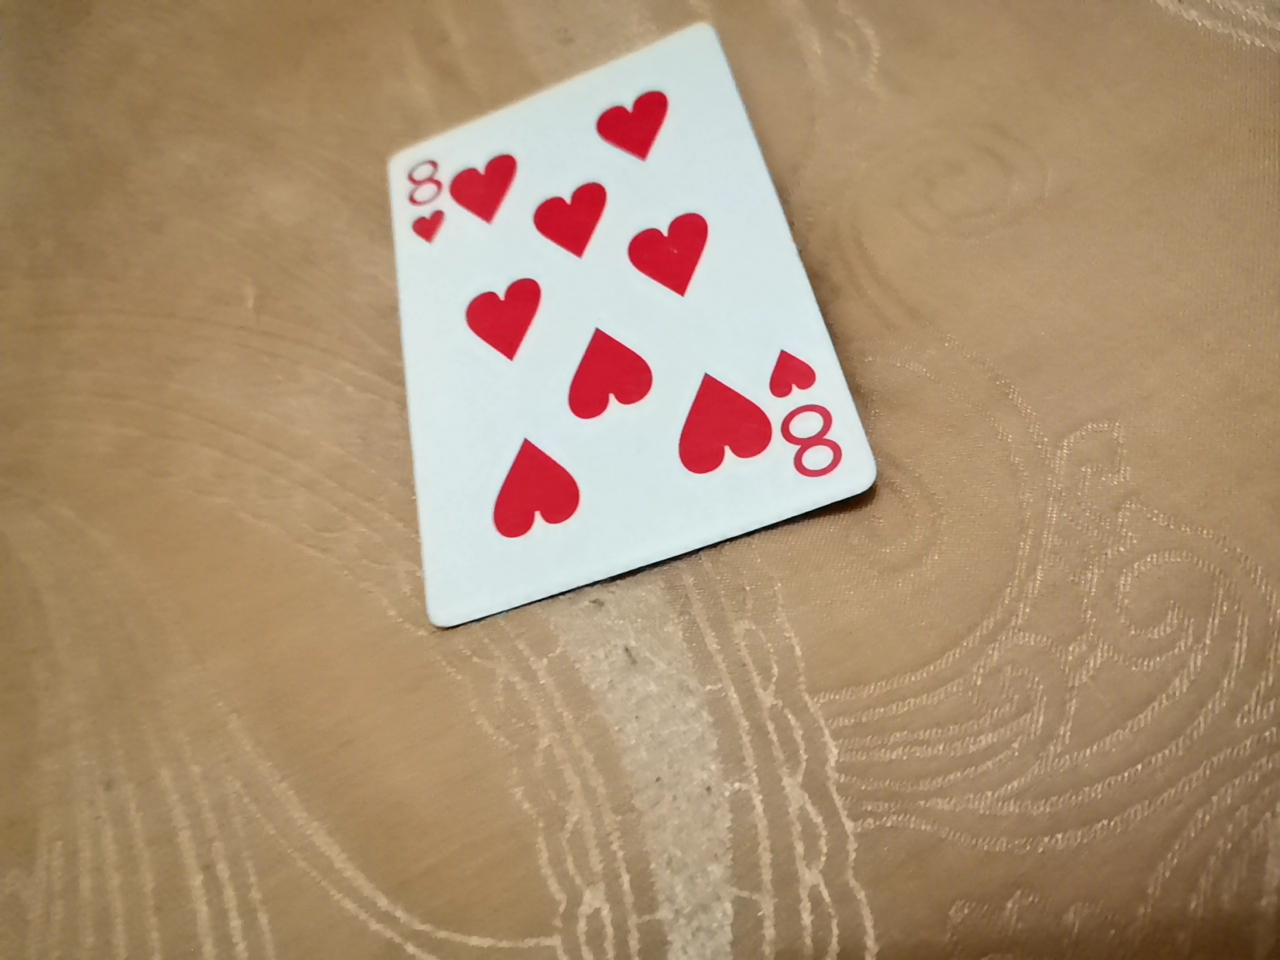hx 8: (355, 21, 864, 656)
